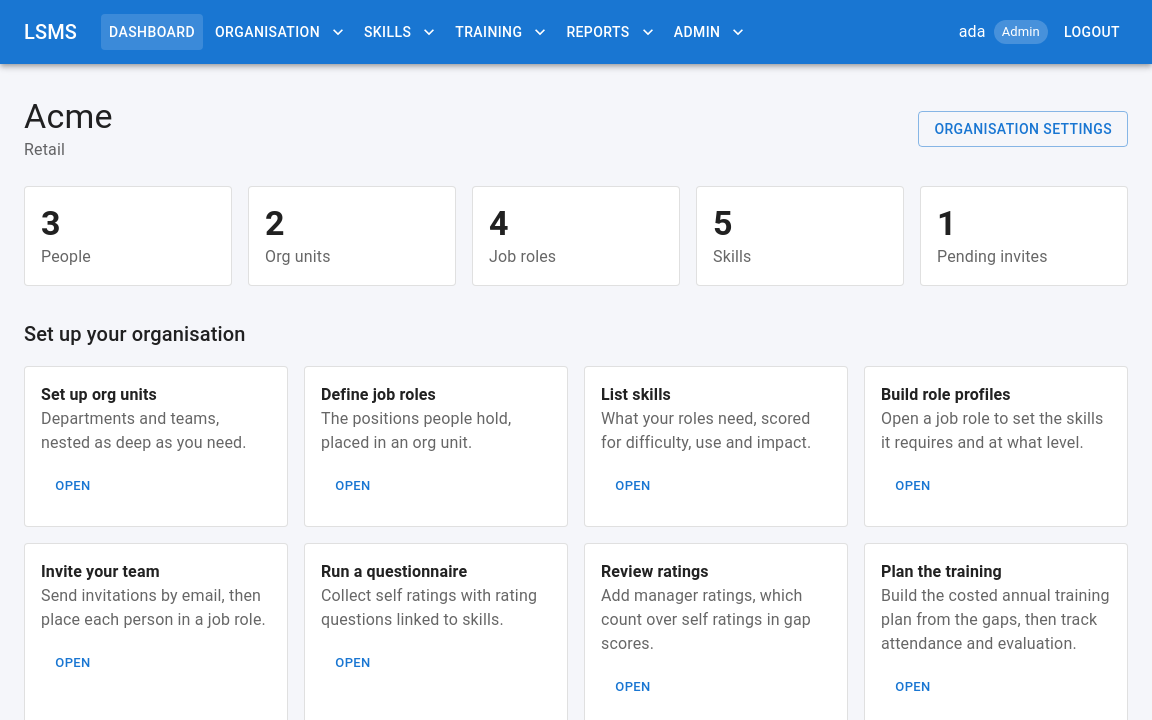
tenant admins land on their organisation dashboard with setup links
Check: the heading "Acme" is shown, box [24,96,113,138]
Check: the text "Set up org units" is shown, box [41,385,157,404]
Click the button "Organisation". click: (280, 32)
box: [207,14,352,50]
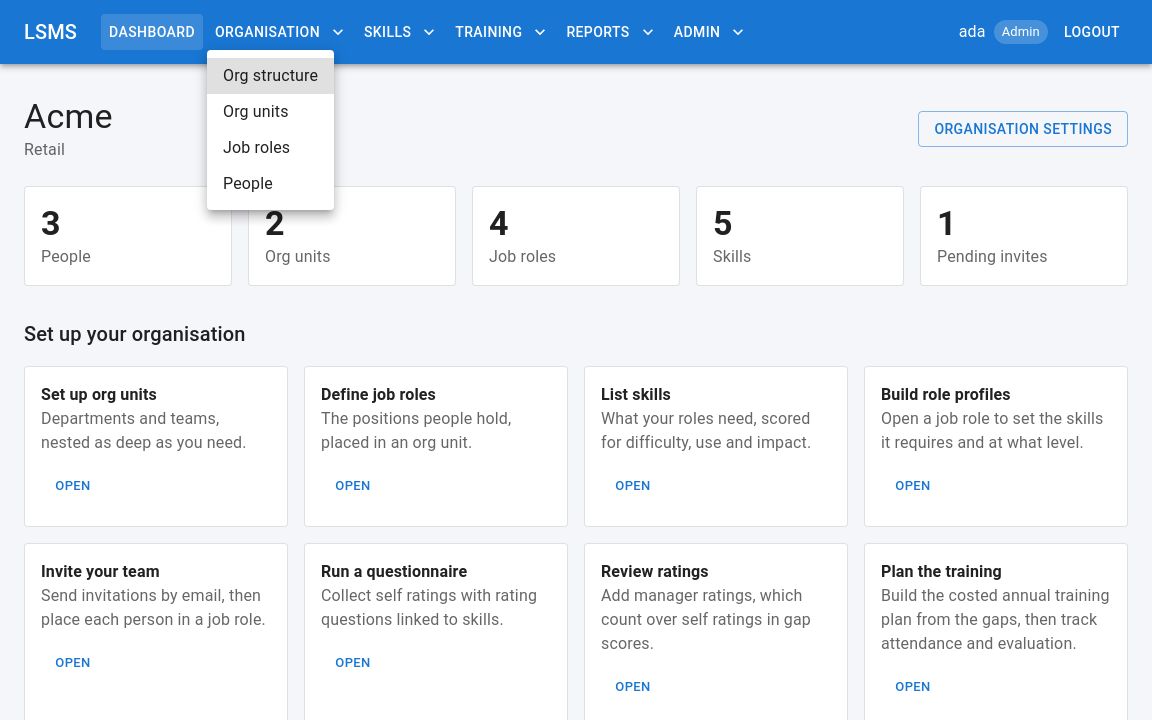
Check: the menu item "People" is shown, box [223,174,273,193]
